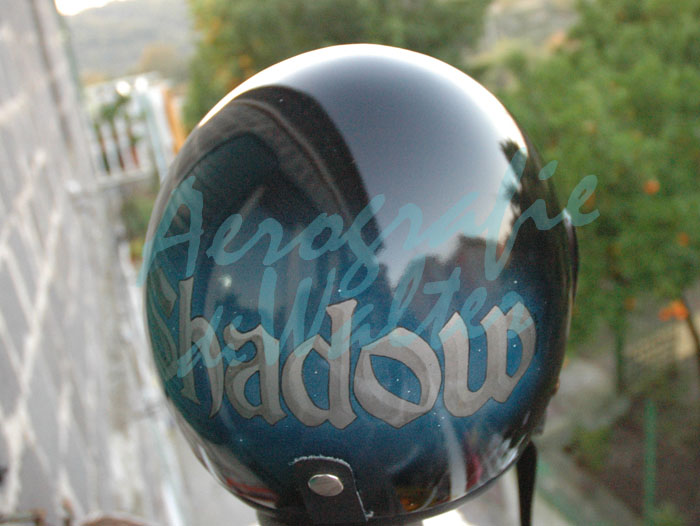helmet: (150, 64, 572, 513)
